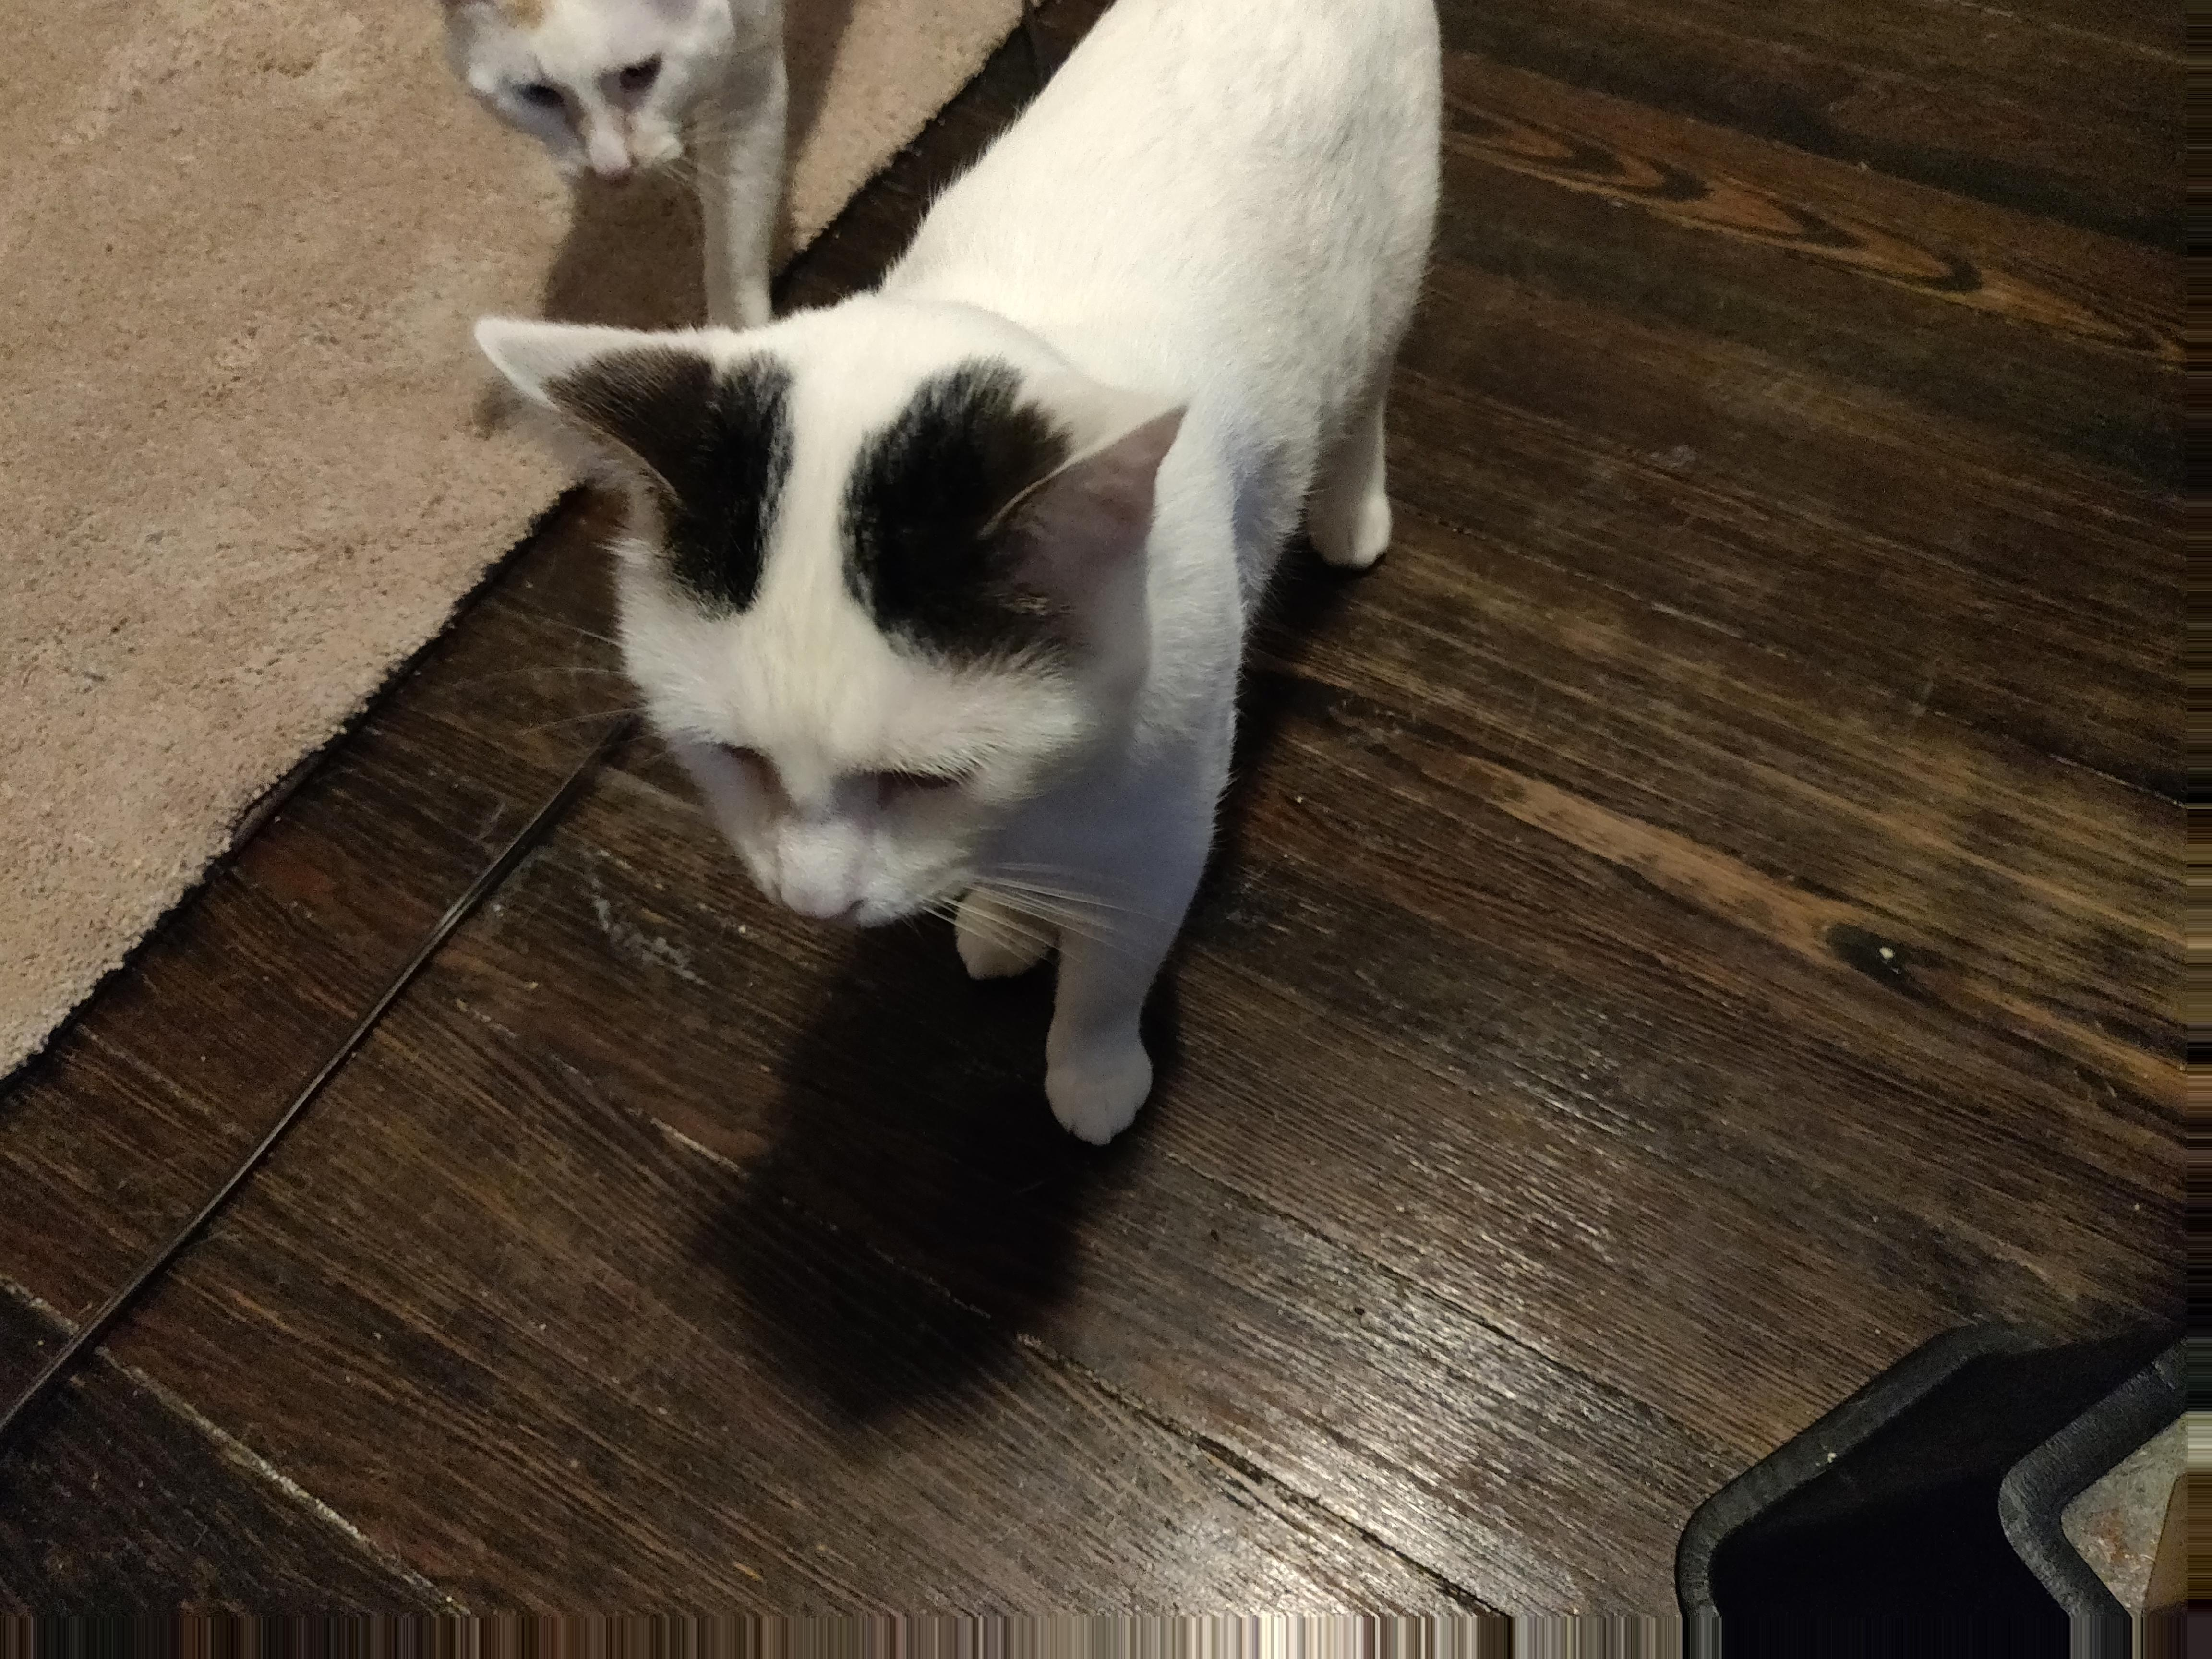cat: (436, 2, 1448, 1115)
